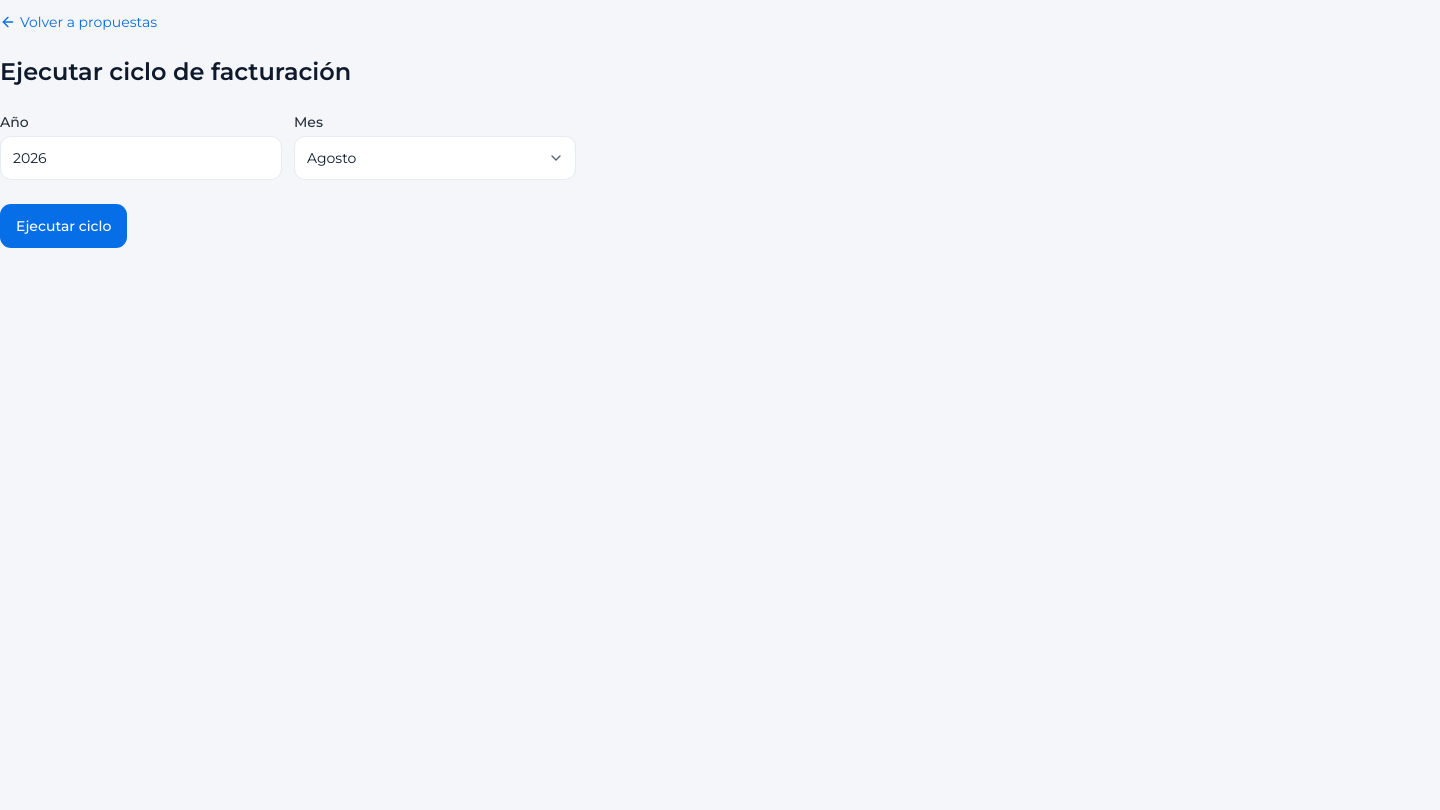
EjecutarCiclo › un resultado EXITOSA sin pendientes no muestra la advertencia
Click the button "Ejecutar ciclo": coordinates (64, 226) [0, 204, 127, 248]
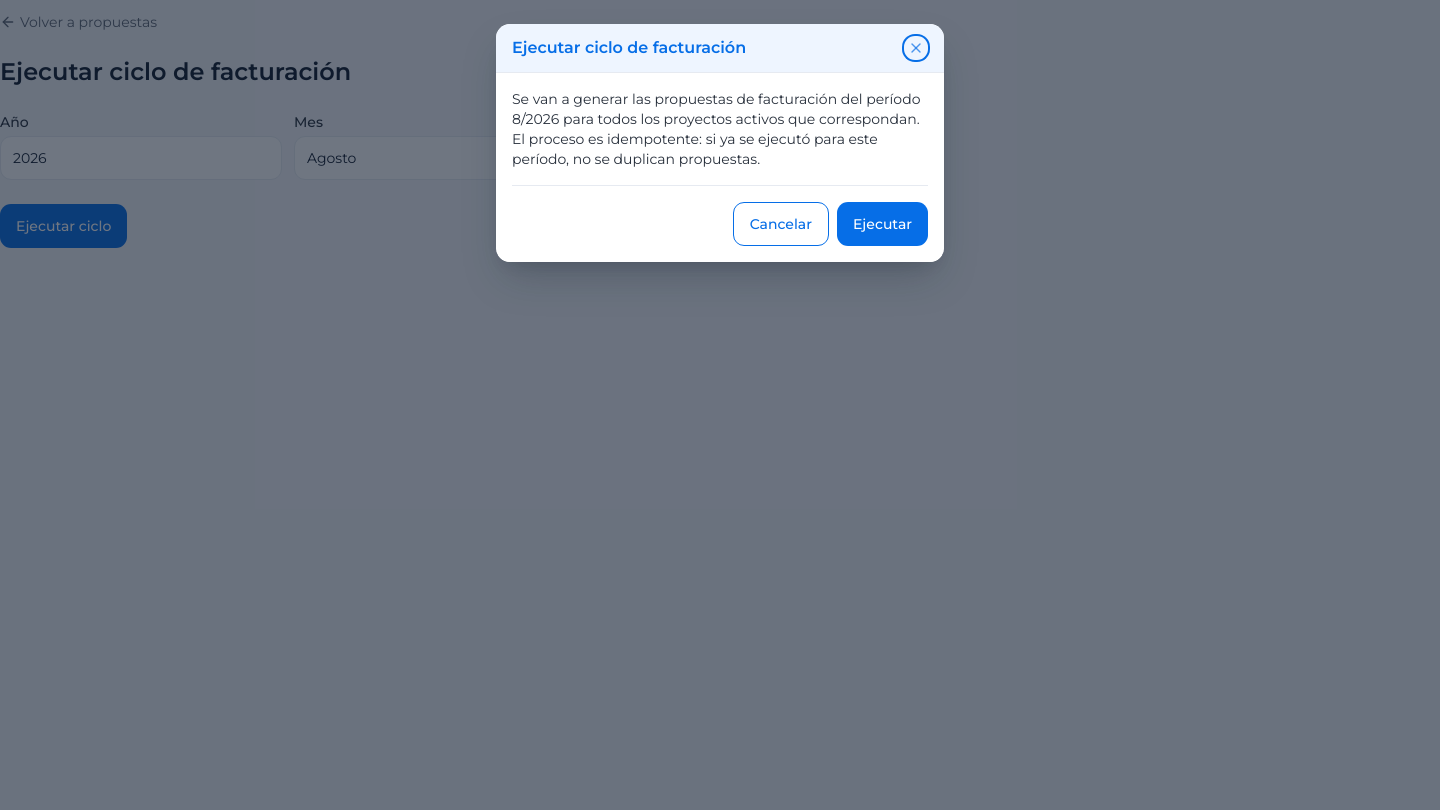
Click the button "Ejecutar": coordinates (882, 224) [837, 202, 928, 246]
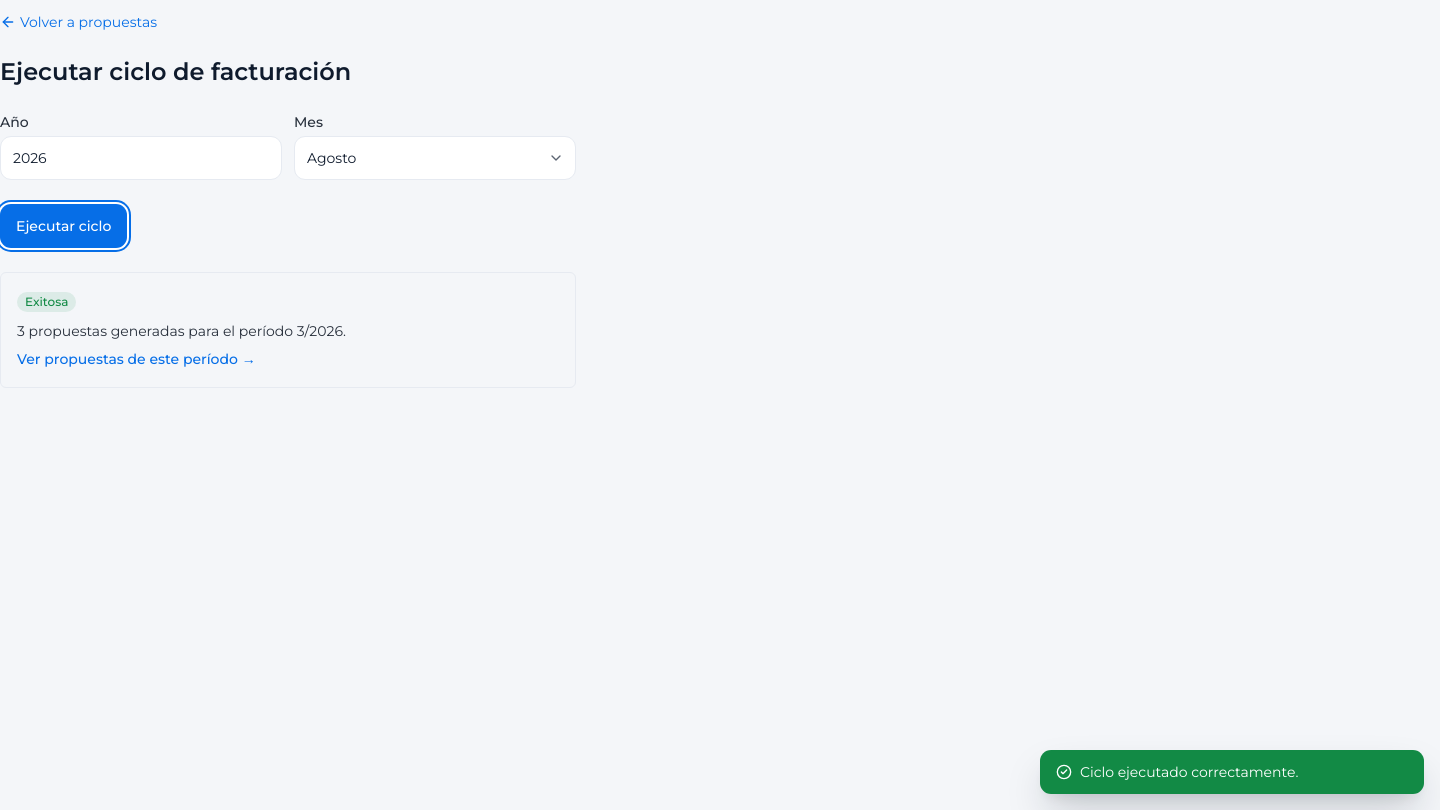
Now the text "Exitosa" is shown, box [17, 292, 76, 312]
